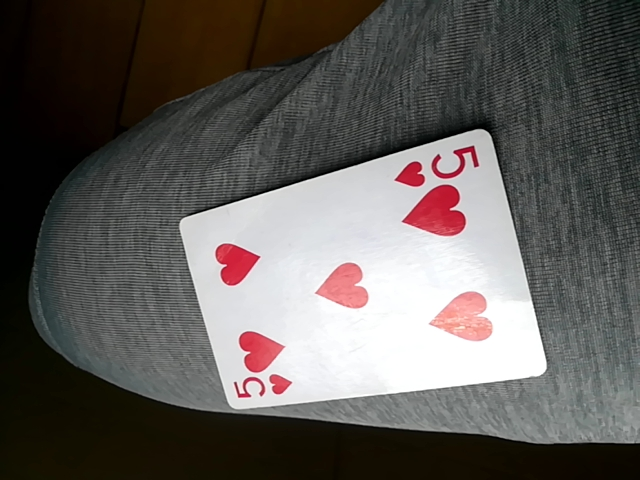hx 5: (177, 128, 545, 417)
